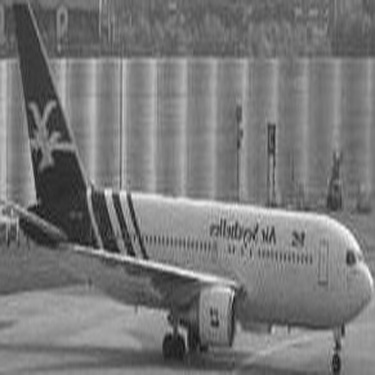airplane: (6, 5, 368, 371)
